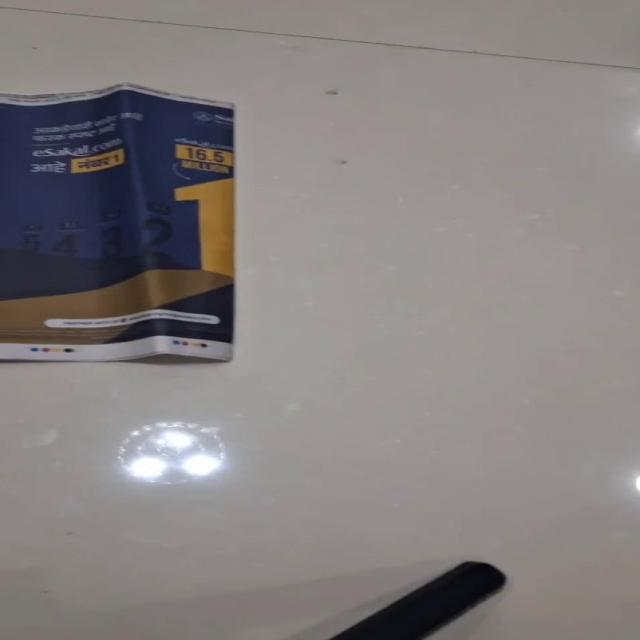paper: (0, 81, 236, 363)
